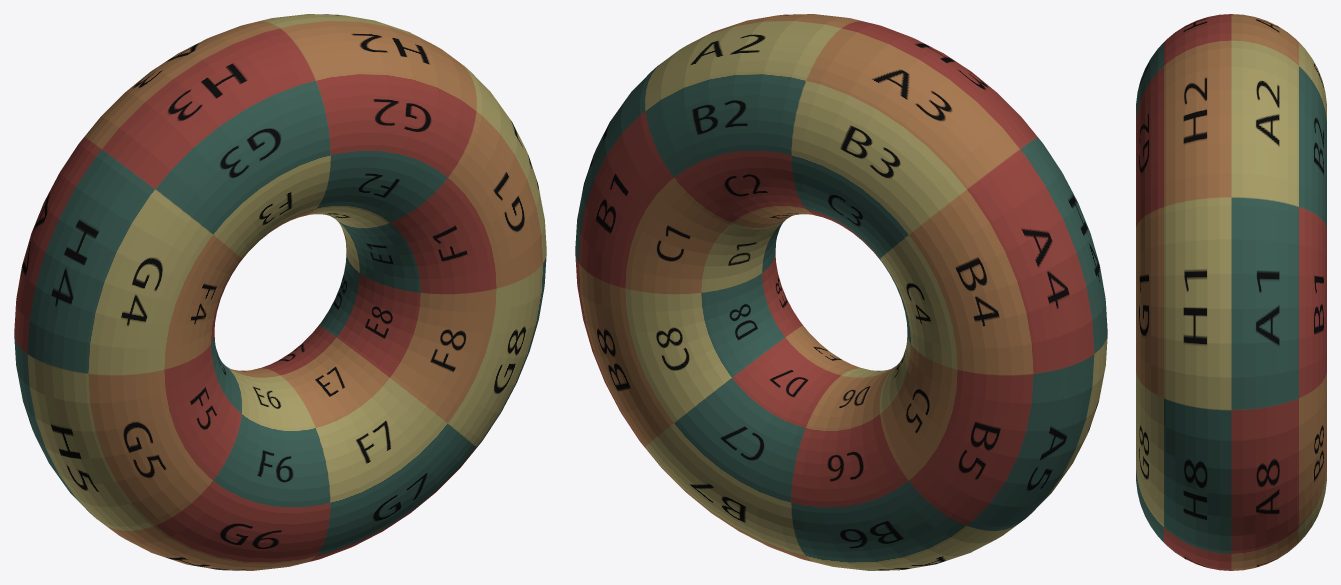
File: texture_torus_R3_r16.glb
The picture shows the model from 3 angles, left to right: view 1: azimuth 30°, elevation 25°; view 2: azimuth 150°, elevation 25°; view 3: azimuth 270°, elevation 25°; orthographic projection. The views are drawn at different scales.
Visible parts, largest first — view 1: world; view 2: world; view 3: world.
Boxes of the visible parts, x1=… form: world: x1=14, y1=14, x2=546, y2=570; world: x1=575, y1=14, x2=1107, y2=570; world: x1=1136, y1=14, x2=1326, y2=570.
Size of the model in its own units: 18.27 by 18.23 by 6.25.
Materials: 1 (1 with a texture image).
